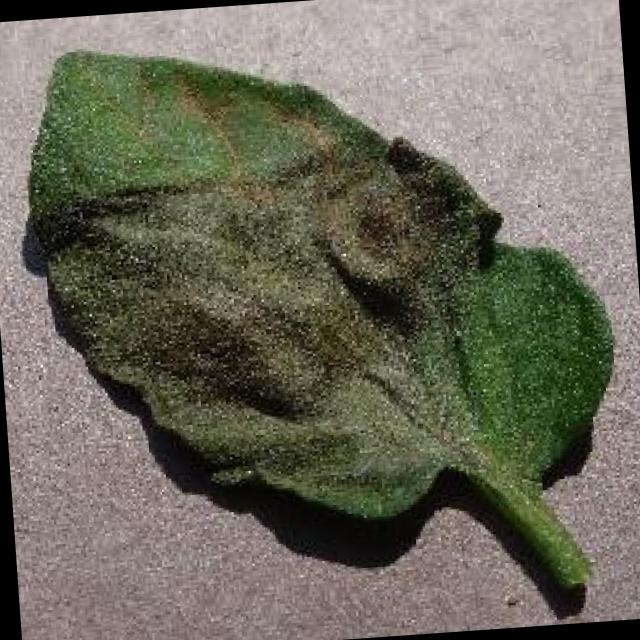Tomato_Late_Blight: (59, 128, 516, 470)
